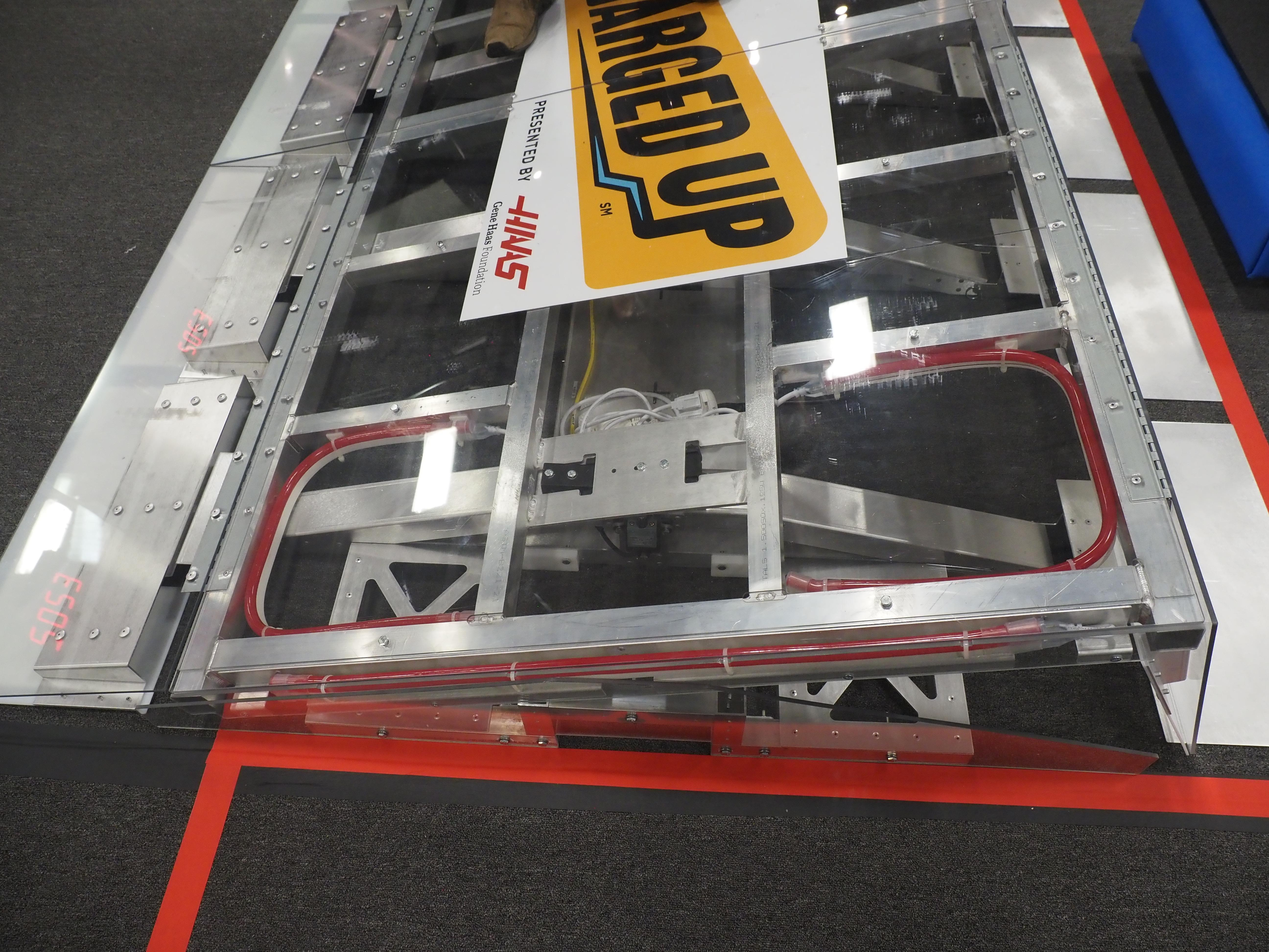cube: (1120, 0, 1269, 293)
